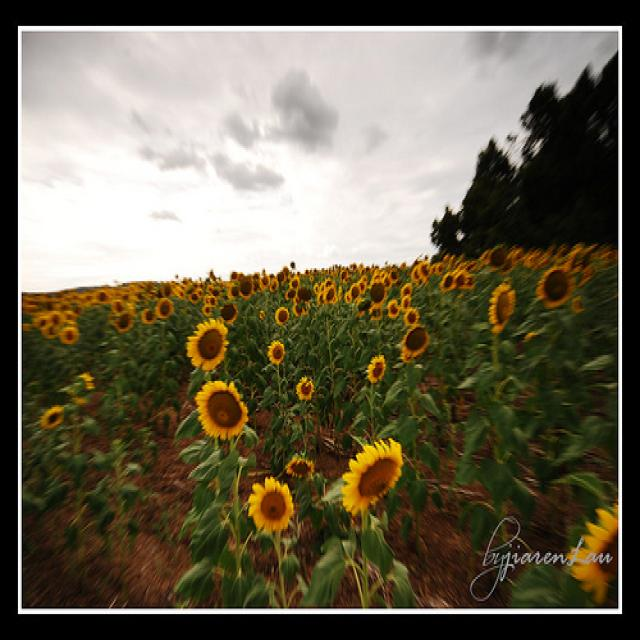sunflower: (340, 439, 406, 515), (194, 379, 250, 442), (247, 476, 292, 538), (184, 314, 226, 376), (488, 275, 520, 343), (536, 263, 574, 309), (402, 326, 434, 358), (366, 273, 388, 310), (291, 374, 316, 405), (485, 242, 512, 270), (41, 401, 63, 433), (268, 337, 289, 368), (152, 293, 177, 319), (273, 302, 295, 331), (112, 305, 130, 337), (368, 358, 387, 386), (452, 270, 471, 296), (407, 265, 433, 281), (404, 304, 422, 326), (441, 267, 456, 293), (323, 286, 339, 306), (58, 329, 76, 346), (96, 291, 110, 308), (288, 278, 302, 292)
